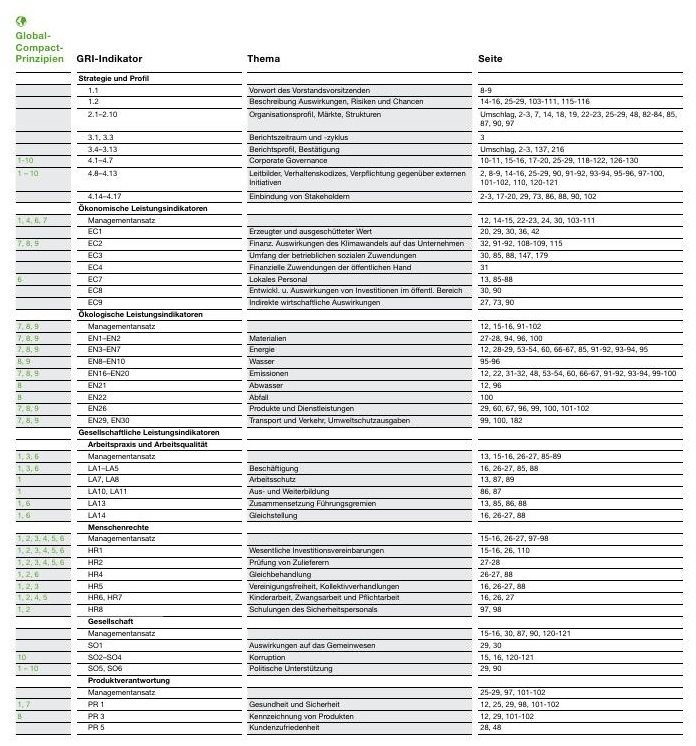table: (0, 0, 696, 746)
